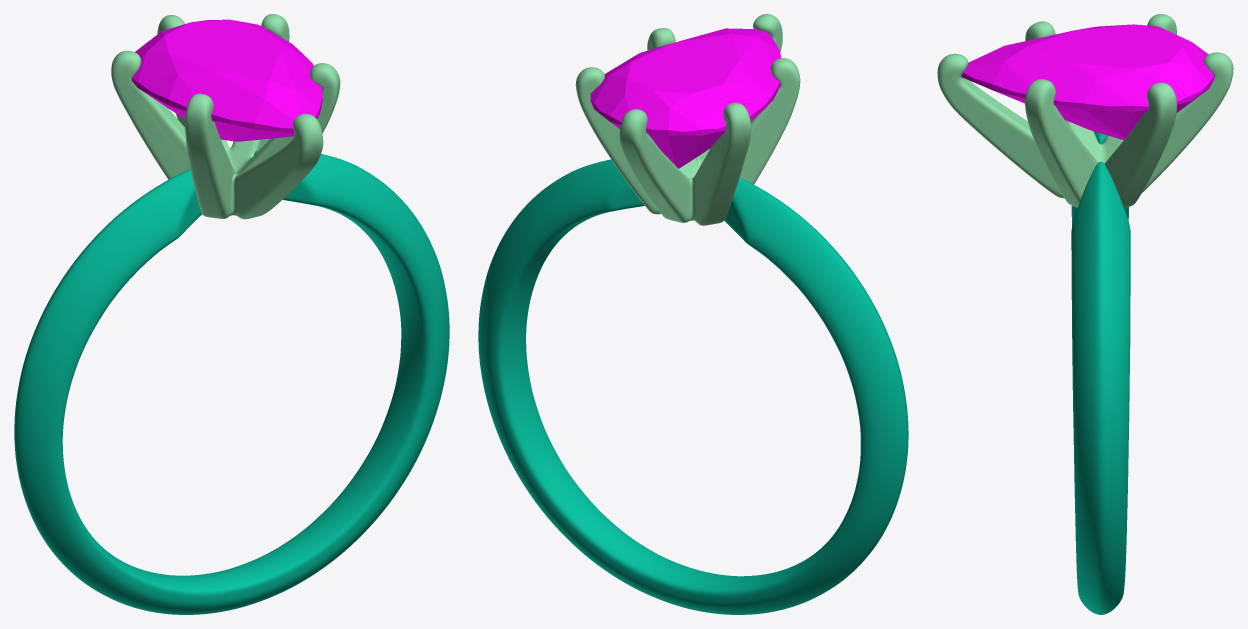
Rendered from BE121H6_PE_200ct_RENDER.glb.
3 renders of one model, left to right at view 1: azimuth 30°, elevation 25°; view 2: azimuth 150°, elevation 25°; view 3: azimuth 270°, elevation 25°, orthographic.
Visible parts, largest first — view 1: Metal 01, Metal 02, CS_Diamond_Pear; view 2: Metal 01, Metal 02, CS_Diamond_Pear; view 3: Metal 01, Metal 02, CS_Diamond_Pear.
Boxes of the visible parts, box(x1,y1,x2,y2) form: Metal 01: box(14, 150, 449, 614); Metal 02: box(111, 14, 340, 219); CS_Diamond_Pear: box(131, 19, 322, 141); Metal 01: box(478, 159, 908, 614); Metal 02: box(575, 14, 800, 225); CS_Diamond_Pear: box(590, 28, 781, 168); Metal 01: box(1071, 131, 1130, 614); Metal 02: box(937, 14, 1233, 208); CS_Diamond_Pear: box(961, 24, 1214, 140).
Size of the model in its own units: 20.07 by 24.6 by 12.1.
